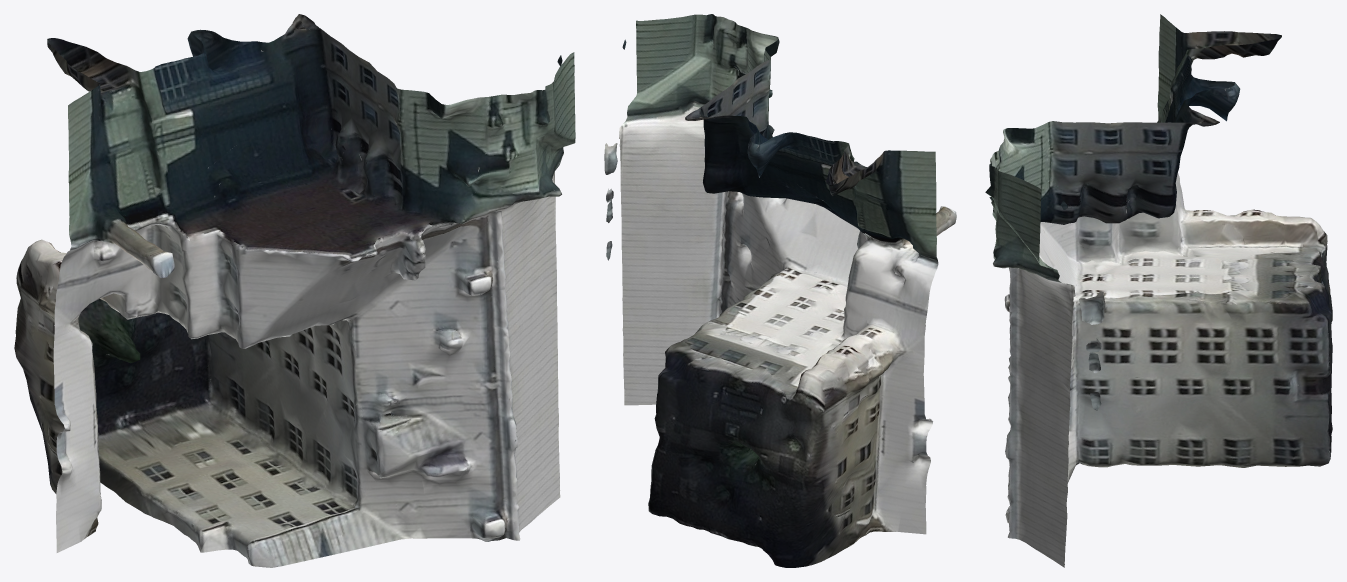
File: Tile_+029_+018_L21_0020000.fbx
3 renders of one model, left to right at view 1: azimuth 30°, elevation 25°; view 2: azimuth 150°, elevation 25°; view 3: azimuth 270°, elevation 25°, orthographic. The views are drawn at different scales.
Parts seen in each view (by area): view 1: DefaultName; view 2: DefaultName; view 3: DefaultName.
Boxes of the visible parts, x1=… form: DefaultName: x1=14, y1=14, x2=575, y2=567; DefaultName: x1=604, y1=14, x2=956, y2=567; DefaultName: x1=985, y1=14, x2=1332, y2=567.
Size of the model in its own units: 31.31 by 31.38 by 26.13.
1 material, 1 textured.
